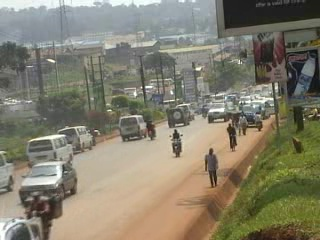Car: (18, 158, 80, 205), (1, 215, 47, 239), (166, 104, 192, 129), (207, 101, 233, 123), (237, 94, 257, 110), (225, 102, 242, 118)
Motorcycle: (23, 192, 65, 239), (167, 128, 182, 158), (145, 120, 157, 140), (199, 104, 209, 120)
